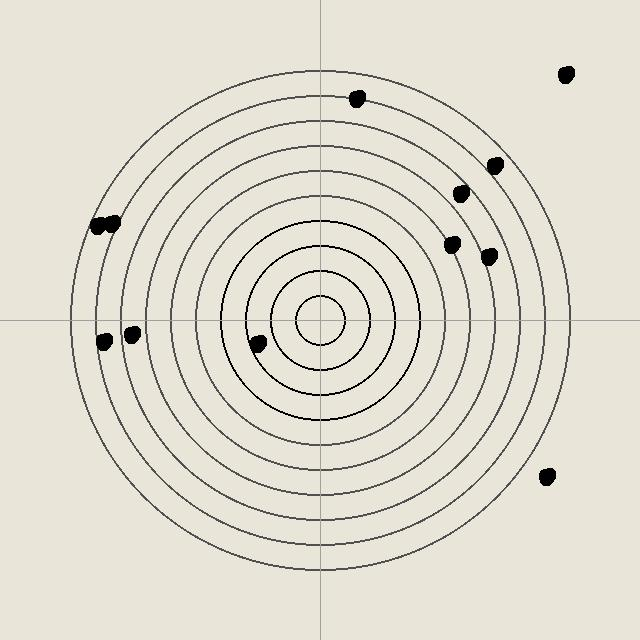random_scatter: (450, 183, 470, 203), (478, 246, 498, 266), (93, 331, 113, 351), (441, 234, 461, 254), (536, 466, 556, 486), (247, 333, 267, 353), (87, 215, 107, 235), (121, 324, 141, 344), (346, 88, 366, 108), (555, 64, 575, 84), (101, 213, 121, 233), (484, 155, 504, 175)
